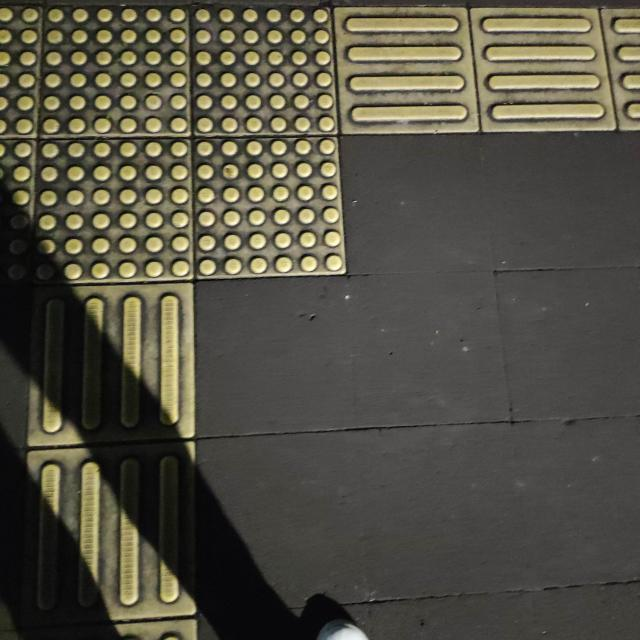kanan: (0, 0, 574, 426)
